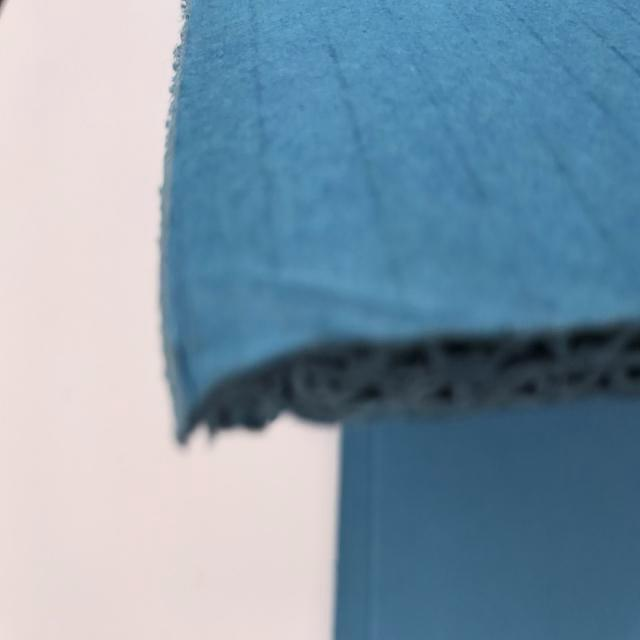cardboard: (157, 0, 640, 640)
